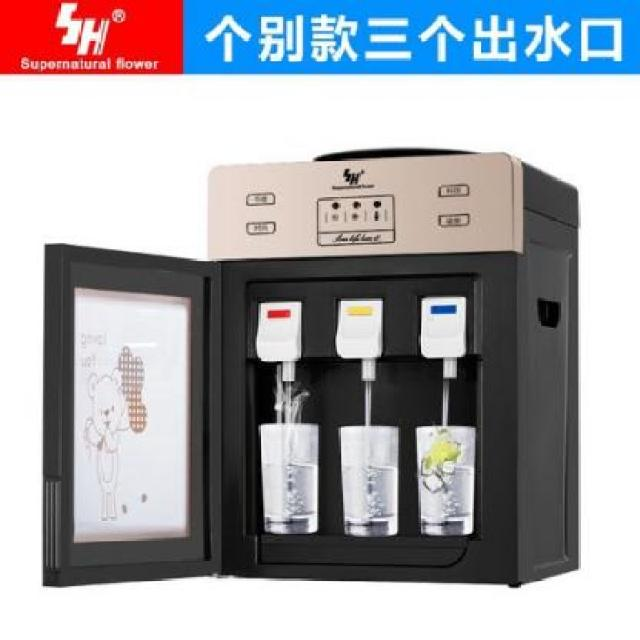cooler: (35, 137, 587, 598)
